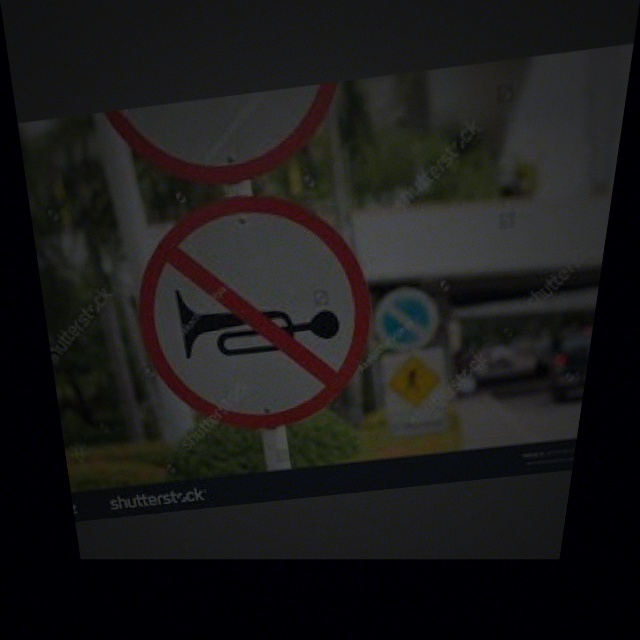Horn_Prohibited: (130, 188, 373, 431)
